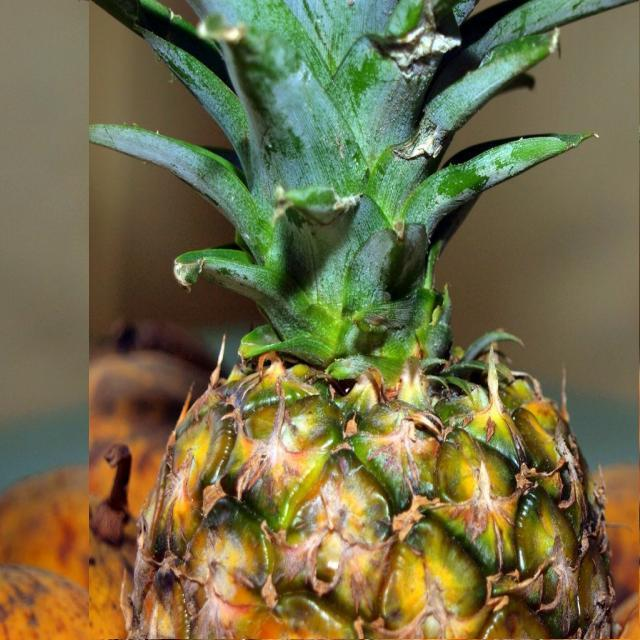Pineapple: (89, 0, 639, 639)
